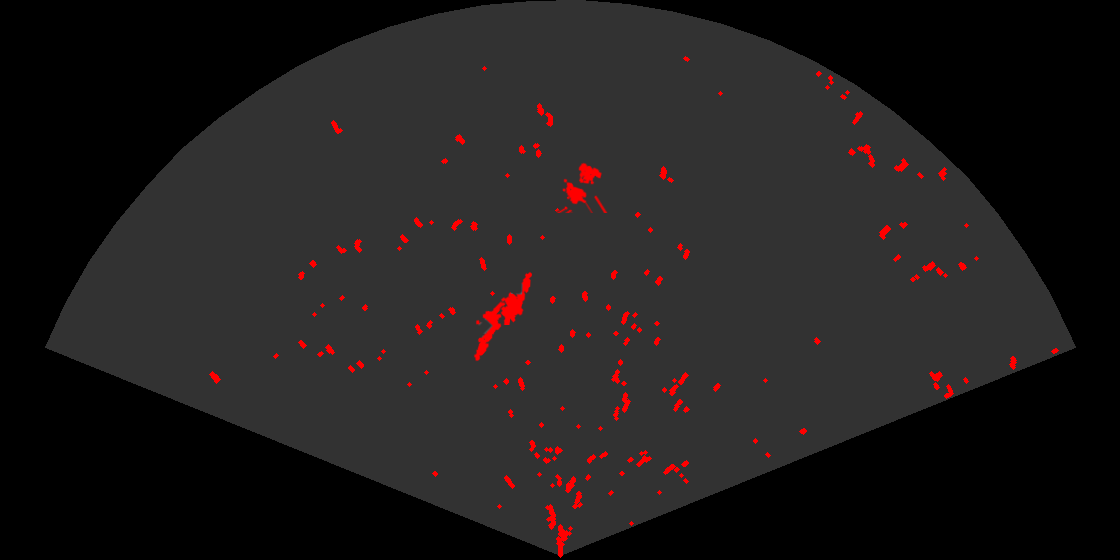cage: (555, 161, 609, 213)
frogman: (472, 300, 511, 363), (499, 270, 534, 325)
